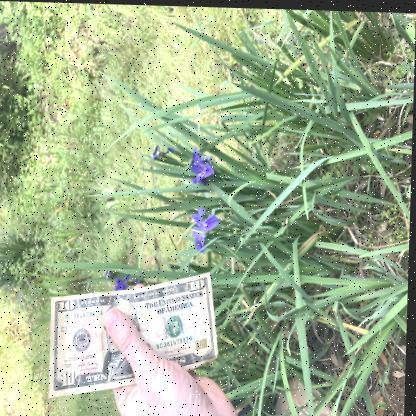dollar_front: (52, 269, 221, 398)
